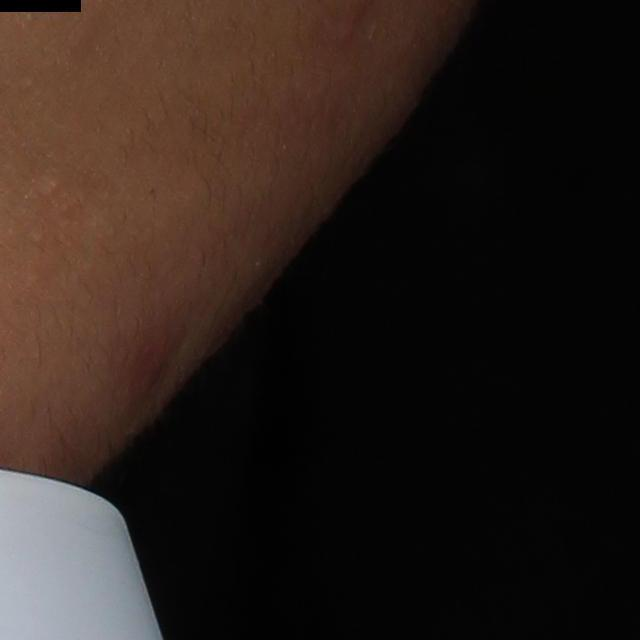comedo: (37, 174, 61, 198)
